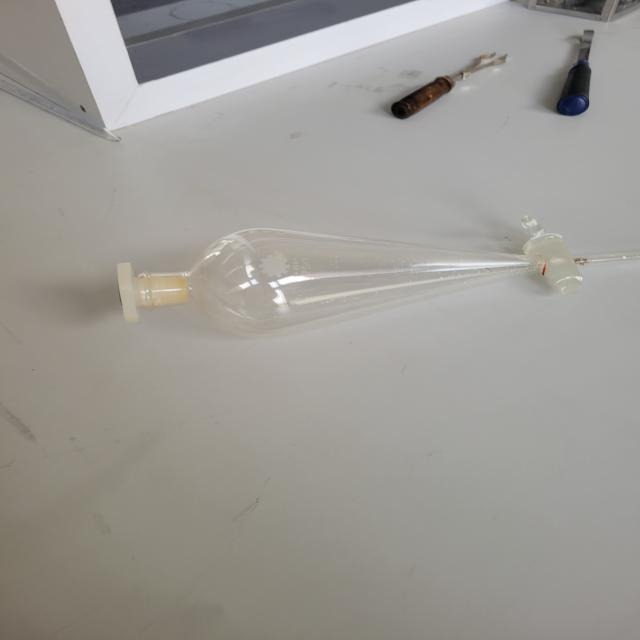Separating_Funnel: (102, 205, 640, 375)
